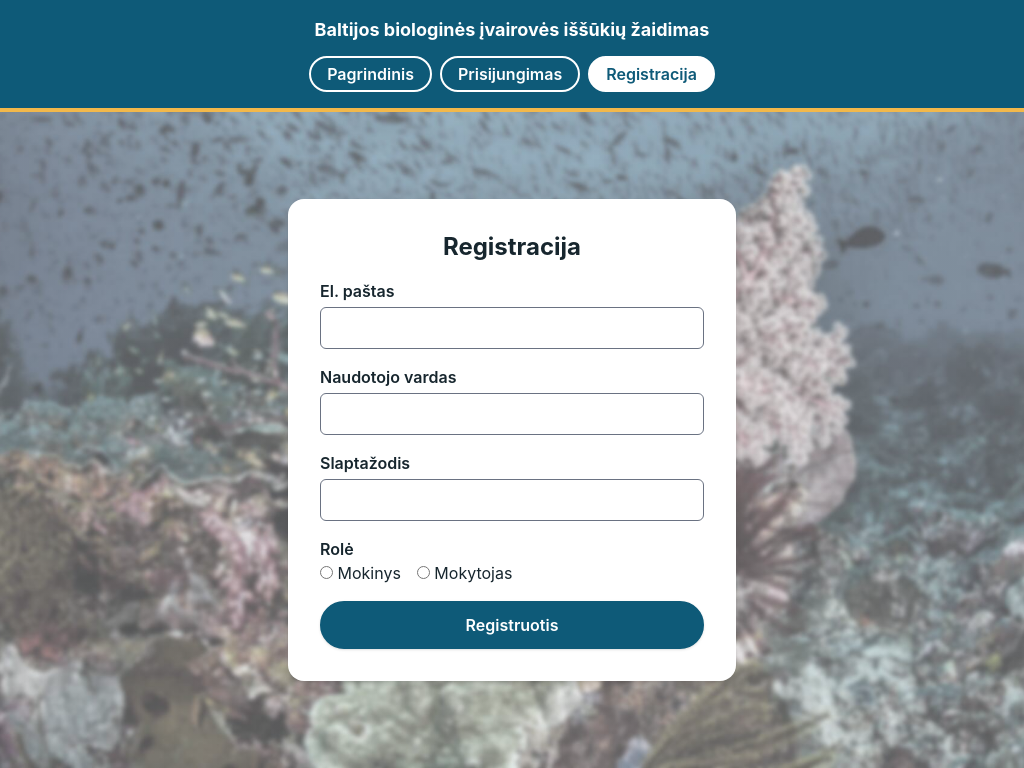
RegisterPage › 409 for userName shows userNameTaken message
This screenshot has width=1024, height=768.
Type "a@b.com" into the field labelled "El. paštas". click: x=512, y=328
box: [320,307,704,349]
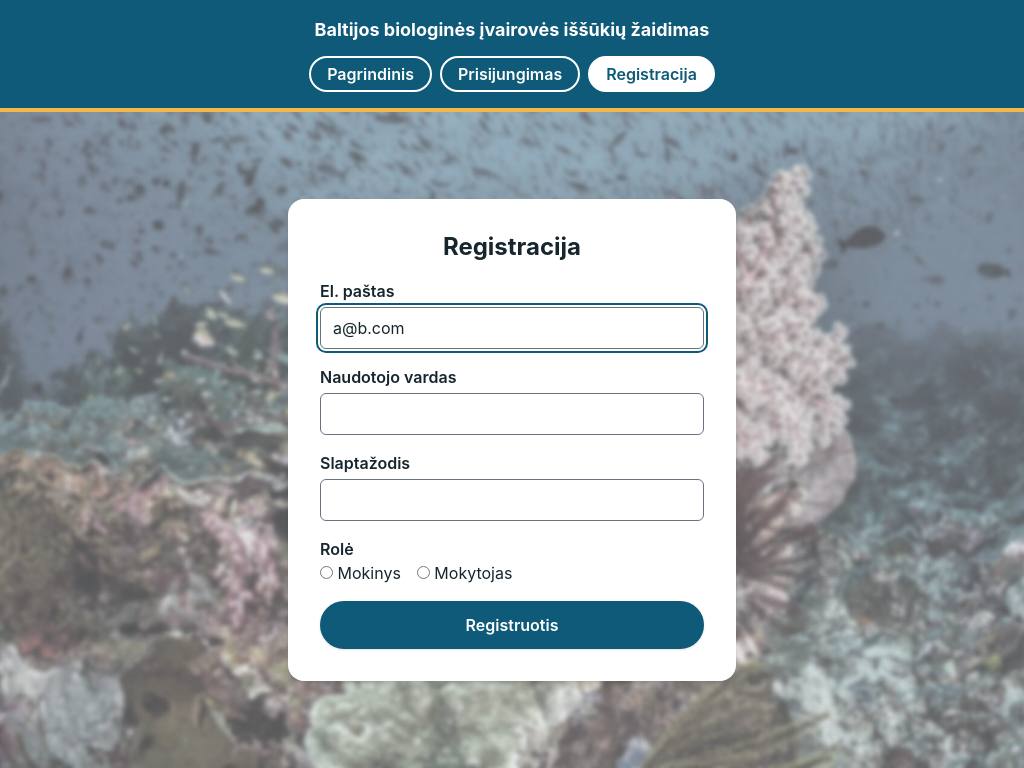
Type "user1" into the field labelled "Naudotojo vardas". click: x=512, y=414
box: [320,393,704,435]
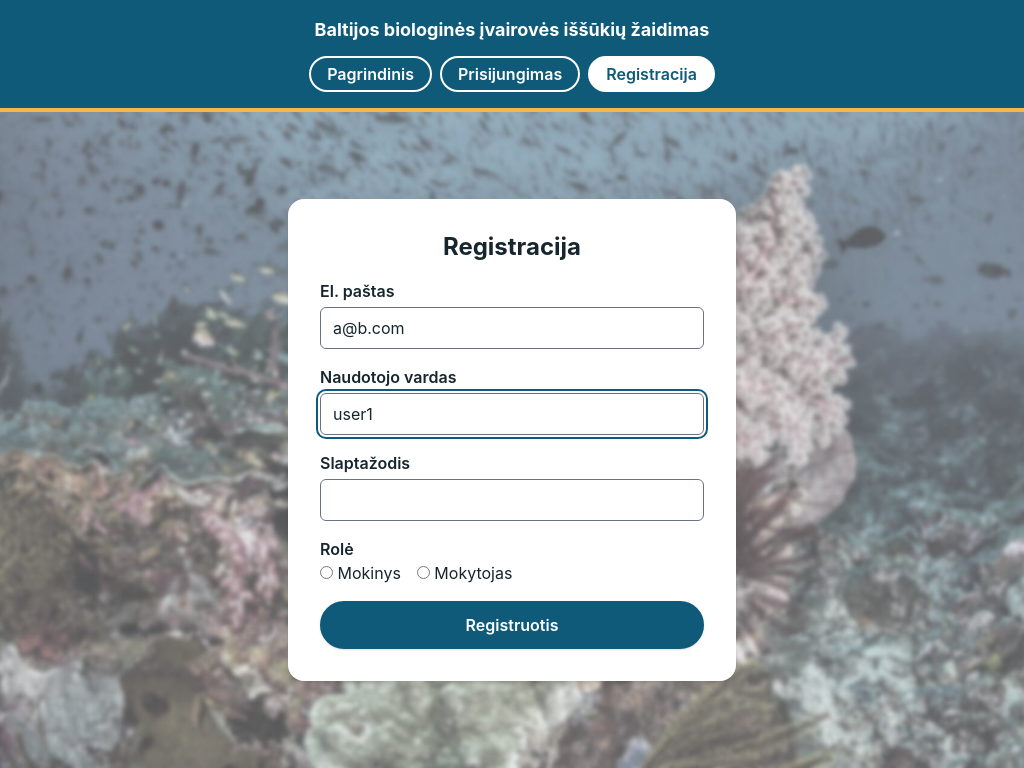
Type "Password123" into the password field labelled "Slaptažodis". click: x=512, y=500
box: [320,479,704,521]
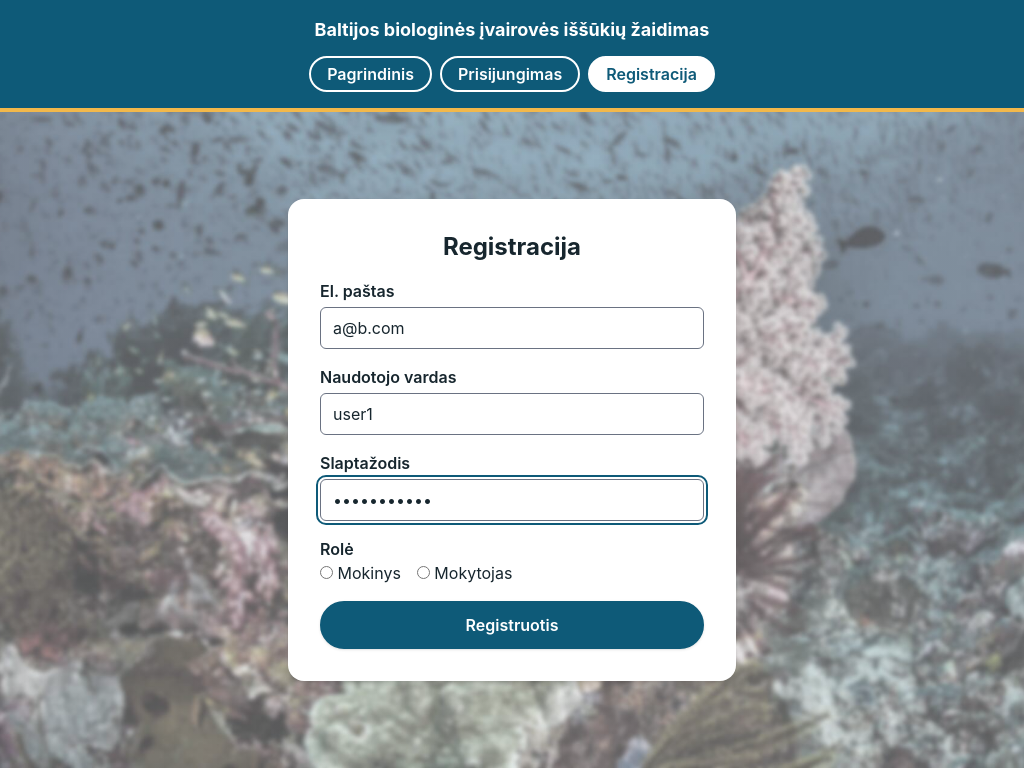
Click the radio button labelled "Mokinys". click: x=326, y=572
box: [320,566,333,579]
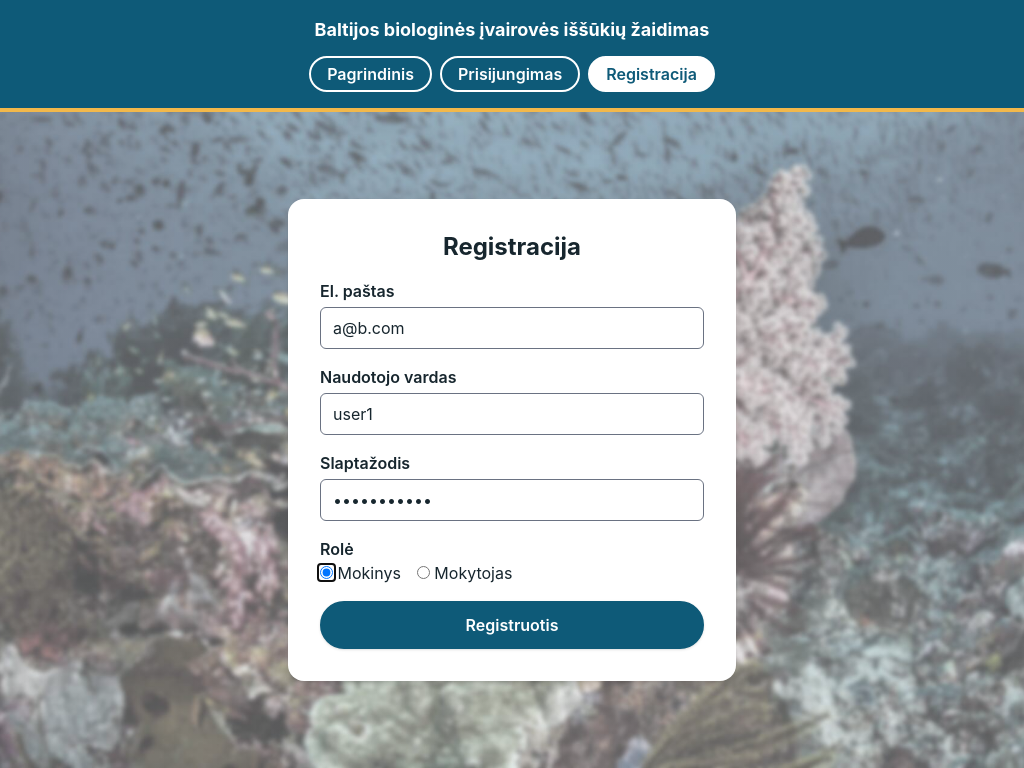
Click the button "Registruotis". click: x=512, y=625
box: [320,601,704,649]
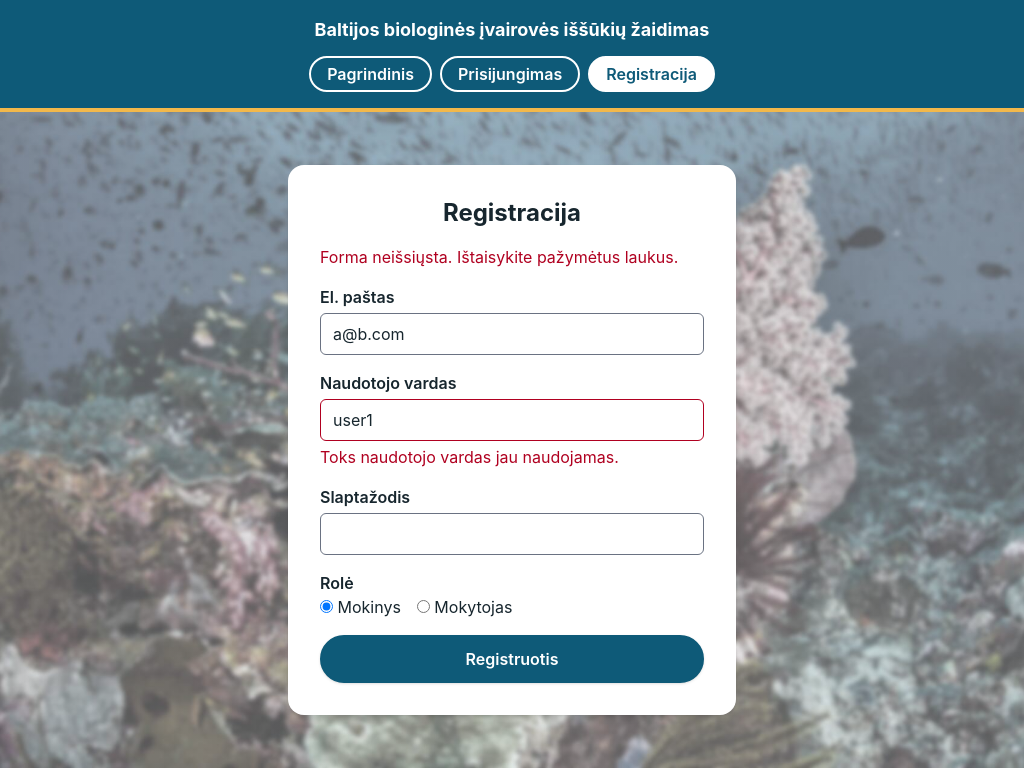
Expected: the text "Toks naudotojo vardas jau naudojamas." is shown, [320,447,619,467]
